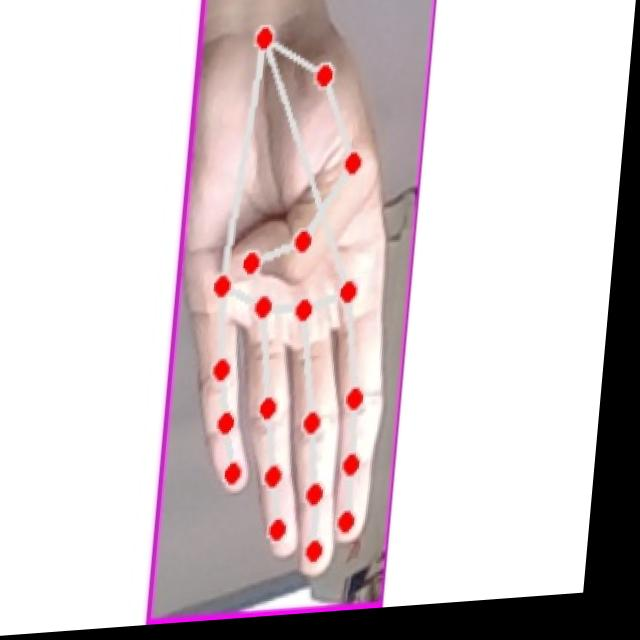B: (170, 9, 423, 597)
